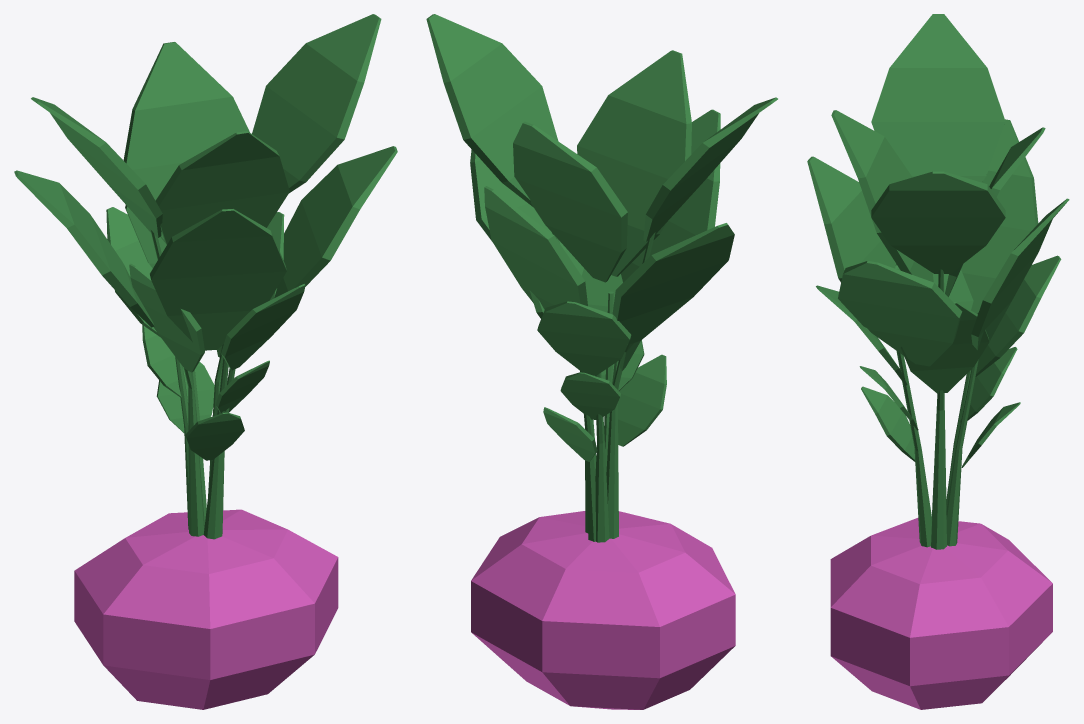
File: turnip.fbx
3 views of the same model, side by side, from view 1: azimuth 30°, elevation 25°; view 2: azimuth 150°, elevation 25°; view 3: azimuth 270°, elevation 25° (orthographic). The views are drawn at different scales.
Parts seen in each view (by area): view 1: turnip; view 2: turnip; view 3: turnip.
Boxes of the visible parts, bbox=[...] form: turnip: bbox=[14, 14, 397, 709]; turnip: bbox=[426, 14, 777, 709]; turnip: bbox=[807, 14, 1069, 709].
Size of the model in its own units: 43.72 by 76.79 by 30.37.
